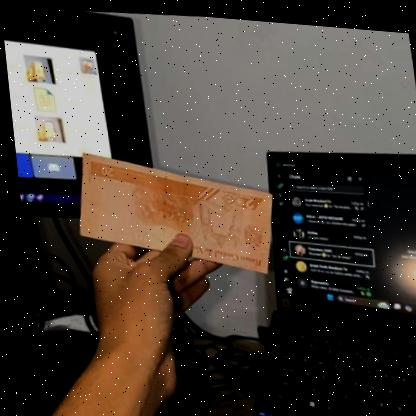twenty-back-vef: (64, 144, 278, 279)
